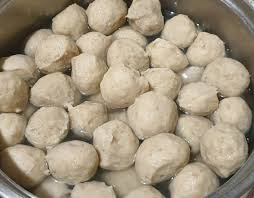bakso: (6, 9, 251, 194)
